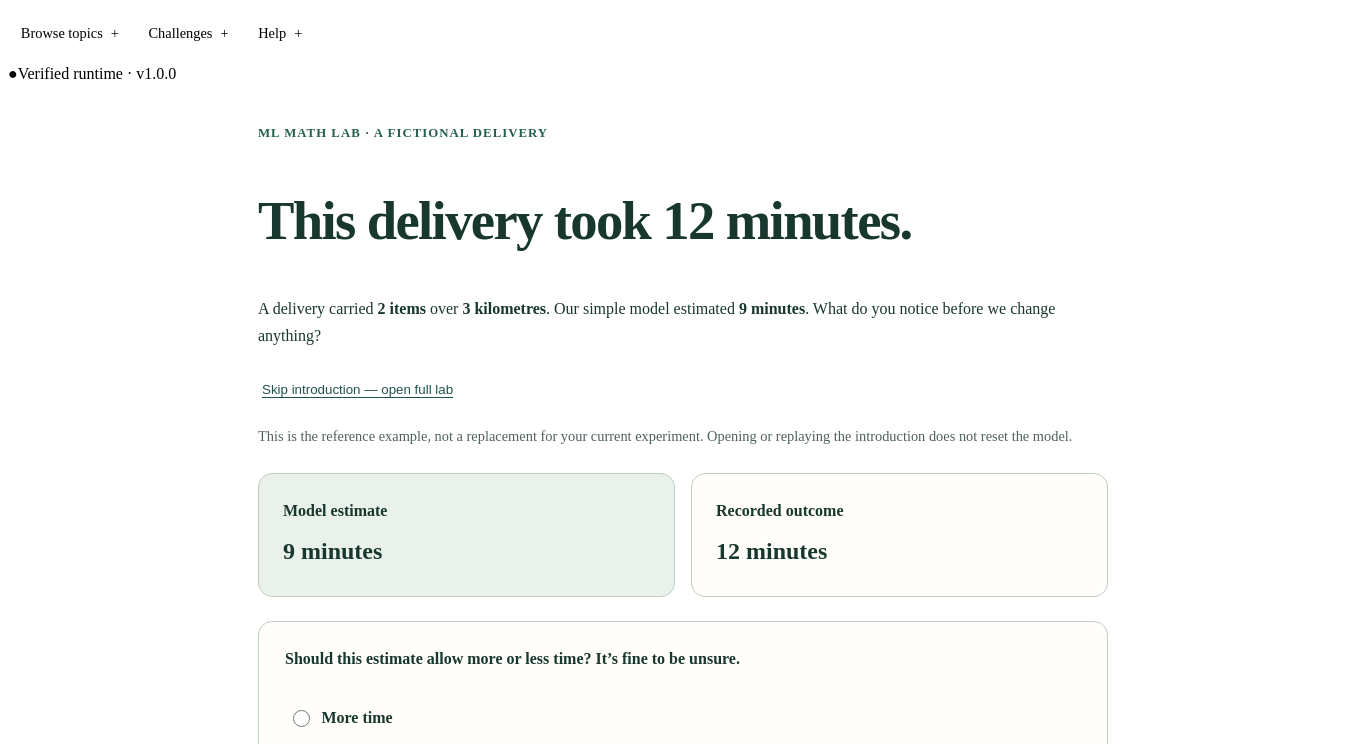
it: X-Ray welcome boundary › explains {} without exposing controls first
Expected: the heading "This delivery took 12 minutes." is shown, top-left (258, 190), bottom-right (911, 251)
Click the radio button labelled "More time". click: click(301, 718)
box: top-left (293, 710), bottom-right (310, 727)
(page scrolled)
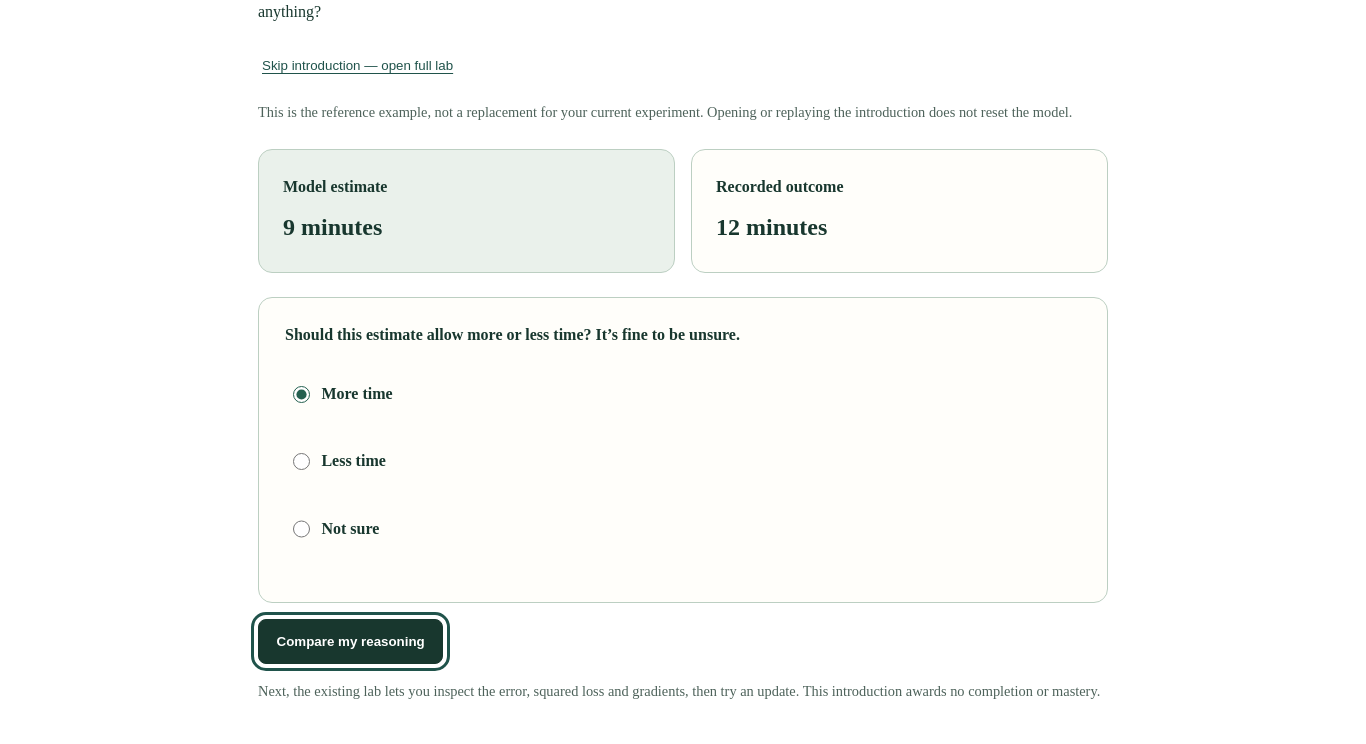
Click the button "Compare my reasoning". click: click(351, 642)
box: top-left (258, 619), bottom-right (443, 664)
(page scrolled)
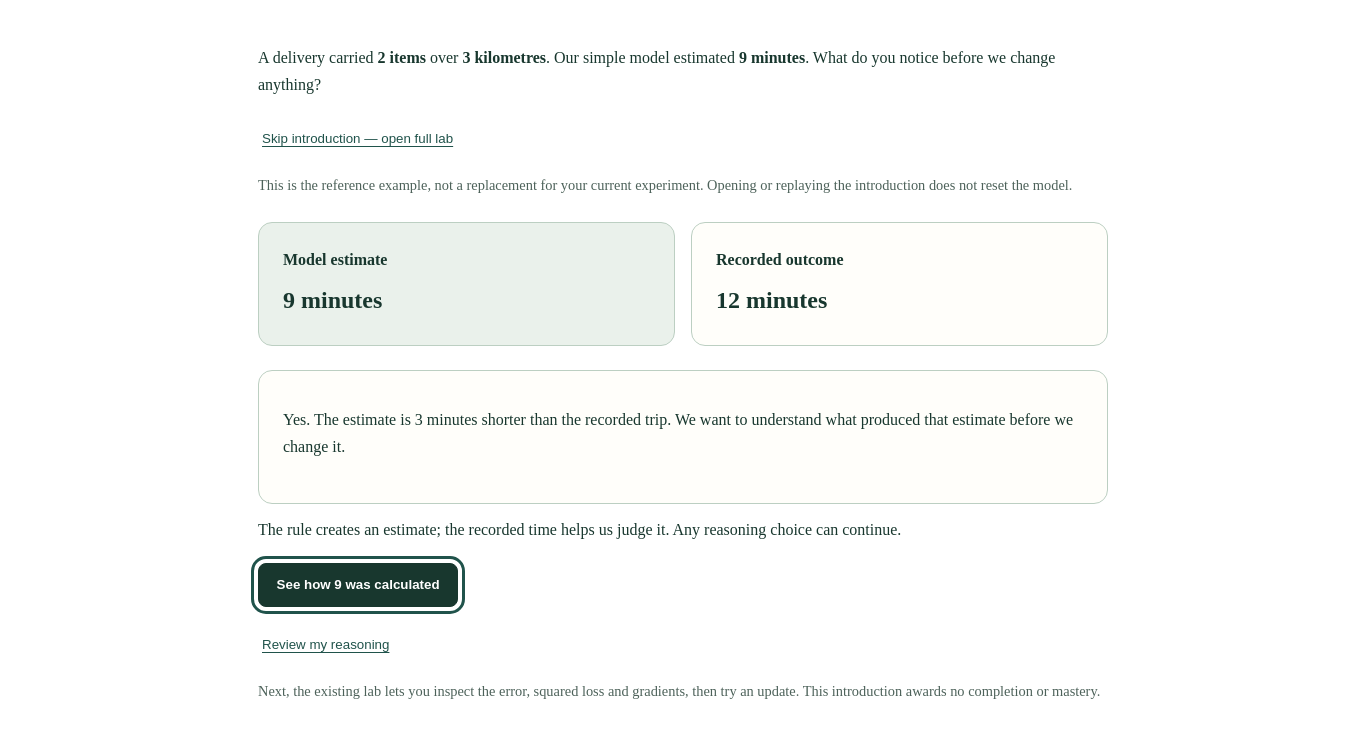
Expected: the message shows "3 minutes shorter", top-left (283, 412), bottom-right (1073, 455)
